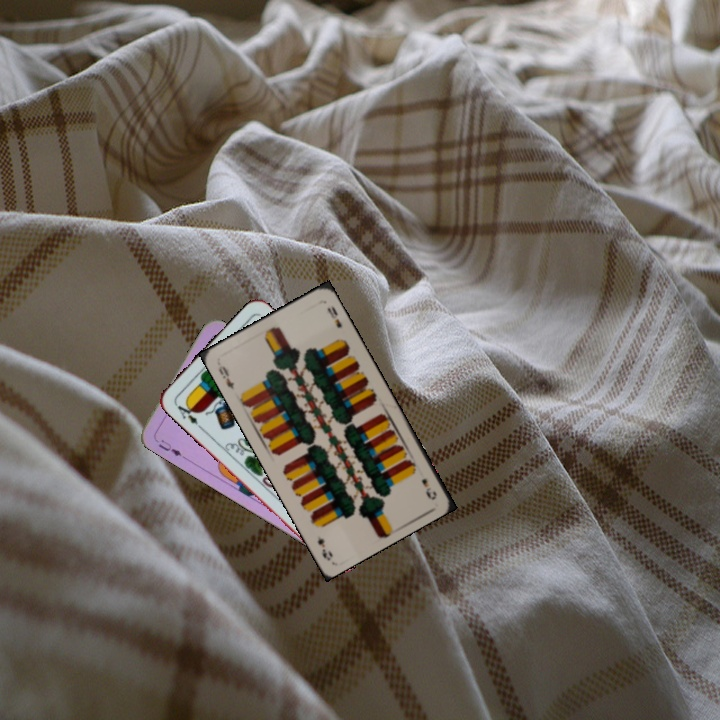E9: (214, 361, 237, 392), (417, 474, 440, 502)
EA: (171, 399, 204, 431)
EU: (154, 435, 184, 459)
